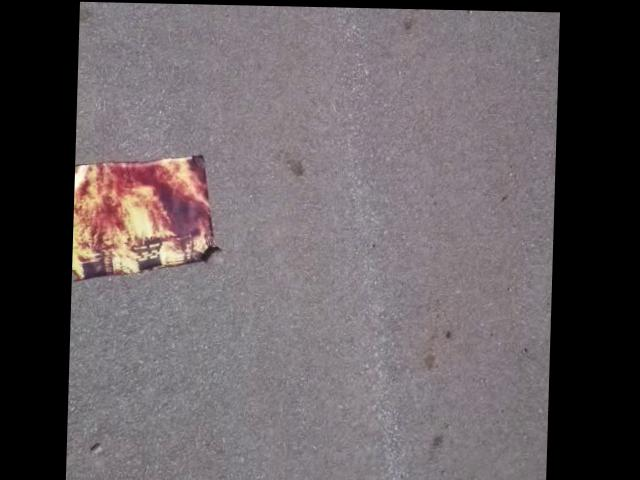fire-poster: (74, 147, 227, 285)
